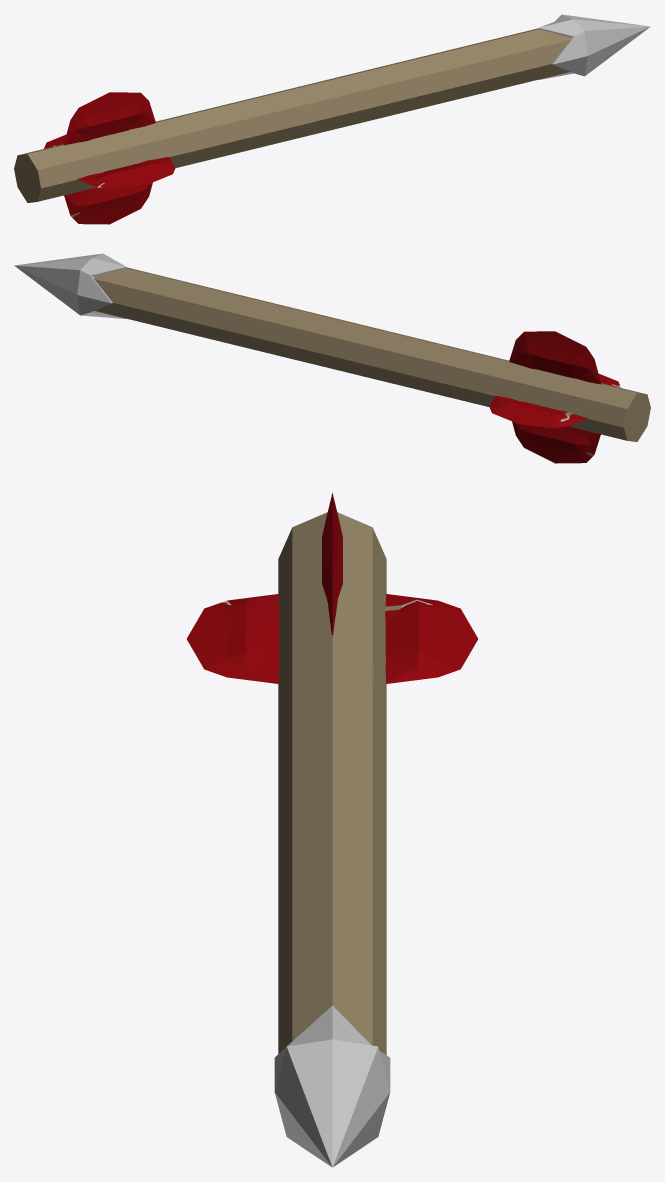
File: Crossbowbolt.fbx
3 renders of one model, top to bottom at view 1: azimuth 30°, elevation 25°; view 2: azimuth 150°, elevation 25°; view 3: azimuth 270°, elevation 25°, orthographic. The views are drawn at different scales.
Parts seen in each view (by area): view 1: Cube.003, Cube.001; view 2: Cube.003, Cube.001; view 3: Cube.003, Cube.001.
Part boxes in pixels (<box>): Cube.003: <box>14,28,571,224</box>; Cube.001: <box>538,14,650,79</box>; Cube.003: <box>93,267,650,463</box>; Cube.001: <box>14,253,126,318</box>; Cube.003: <box>187,492,477,1054</box>; Cube.001: <box>274,1005,390,1167</box>.
Bounding box in the file's own units: 53.16 × 10.78 × 10.78.
2 materials, 2 textured.
